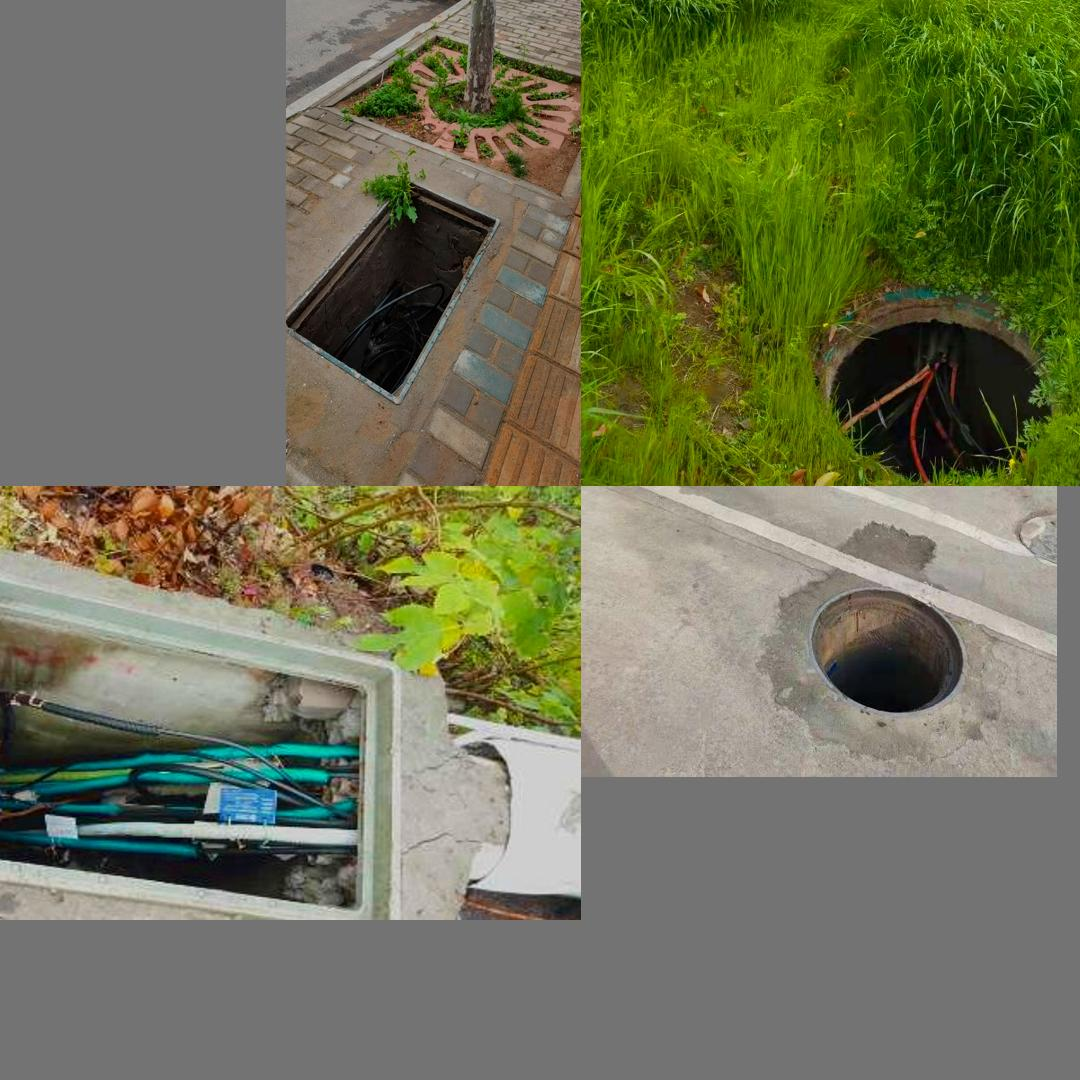lose: (0, 566, 402, 920), (286, 184, 500, 412), (805, 296, 1057, 486), (811, 584, 969, 721)
